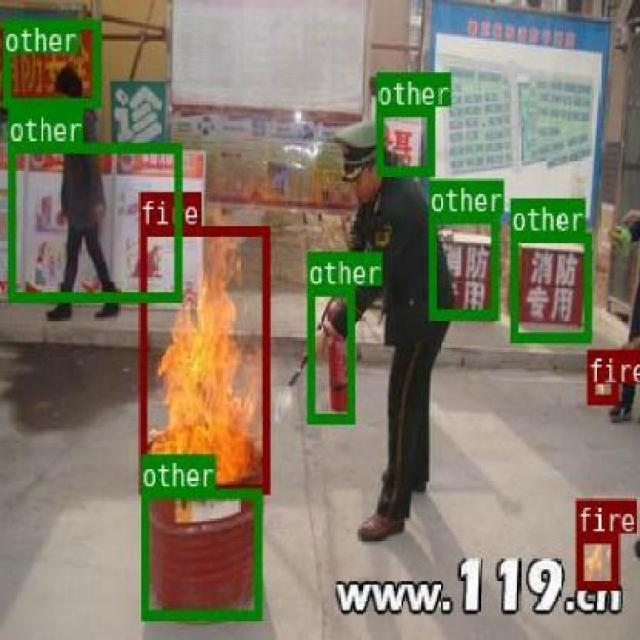Fire: (140, 225, 268, 492), (574, 530, 616, 588), (587, 348, 616, 403)
